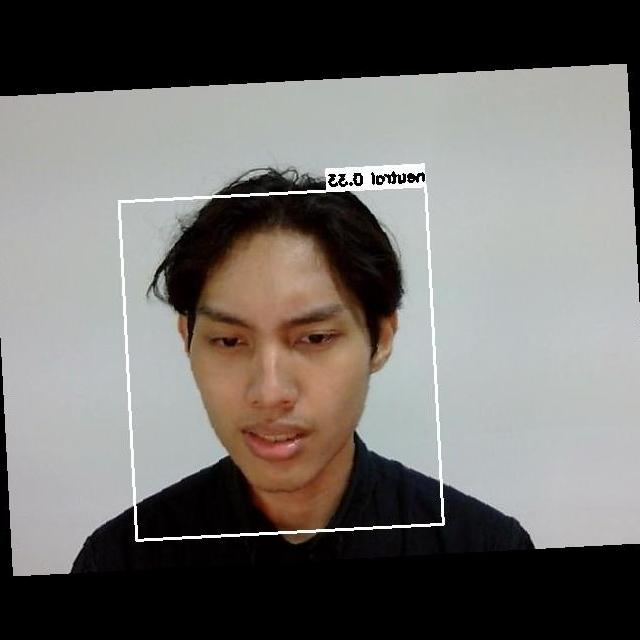Angry: (179, 289, 385, 472)
